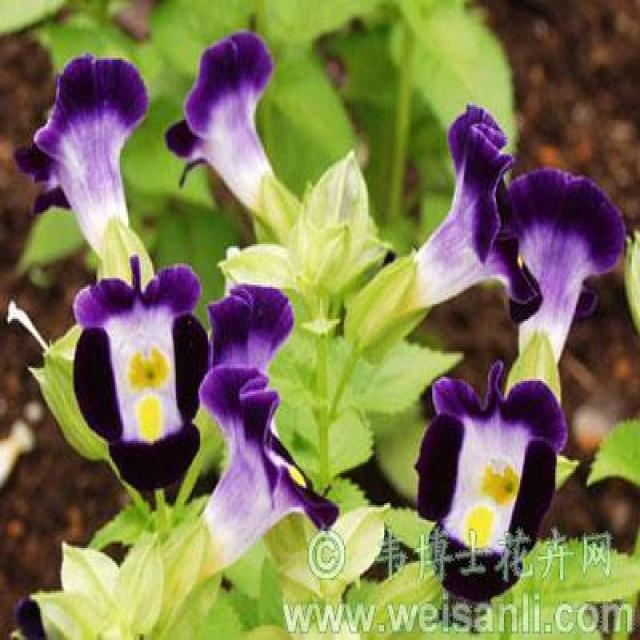organic waste: (111, 366, 337, 595), (374, 84, 541, 353), (400, 356, 563, 590), (496, 149, 629, 429), (30, 51, 181, 296), (74, 274, 208, 503), (160, 36, 307, 234)
